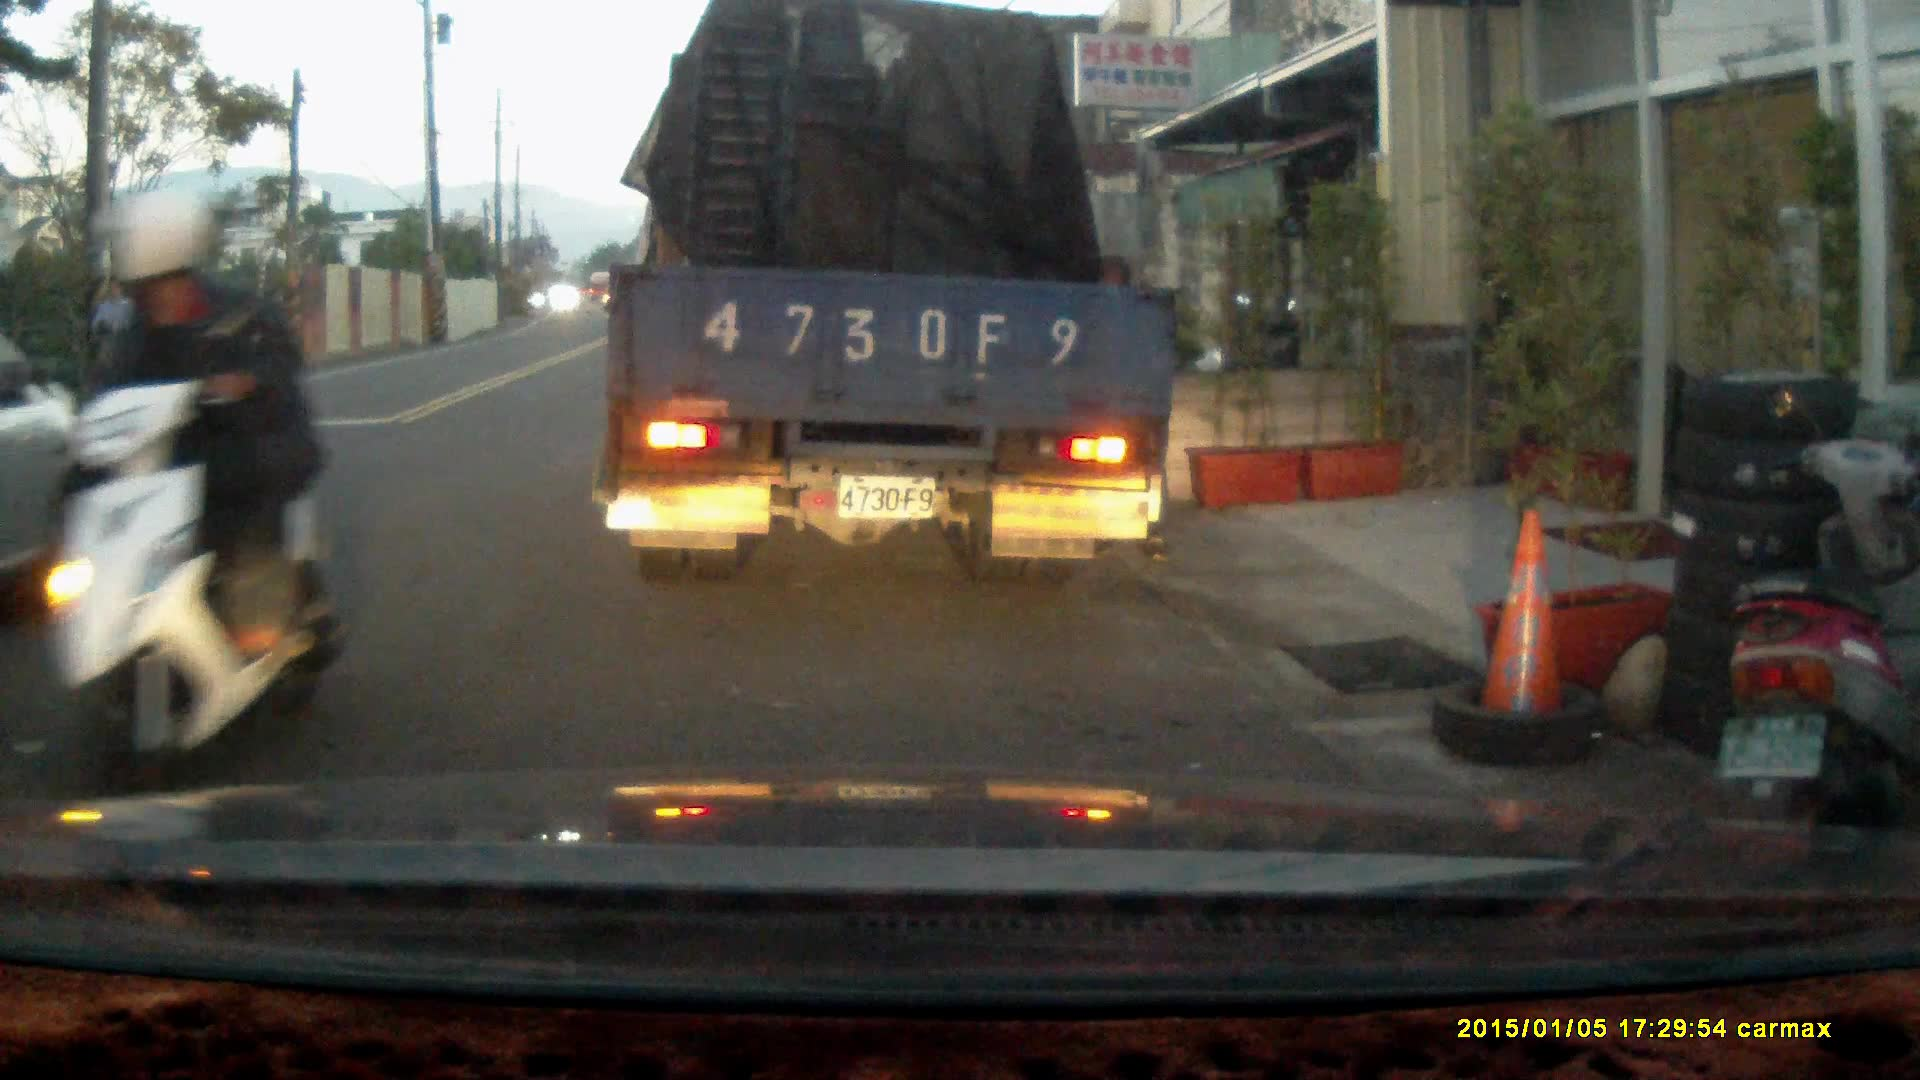pedestrian: (87, 271, 143, 413)
rider: (24, 187, 332, 814)
vehicle: (599, 23, 1186, 572), (0, 352, 115, 601)
